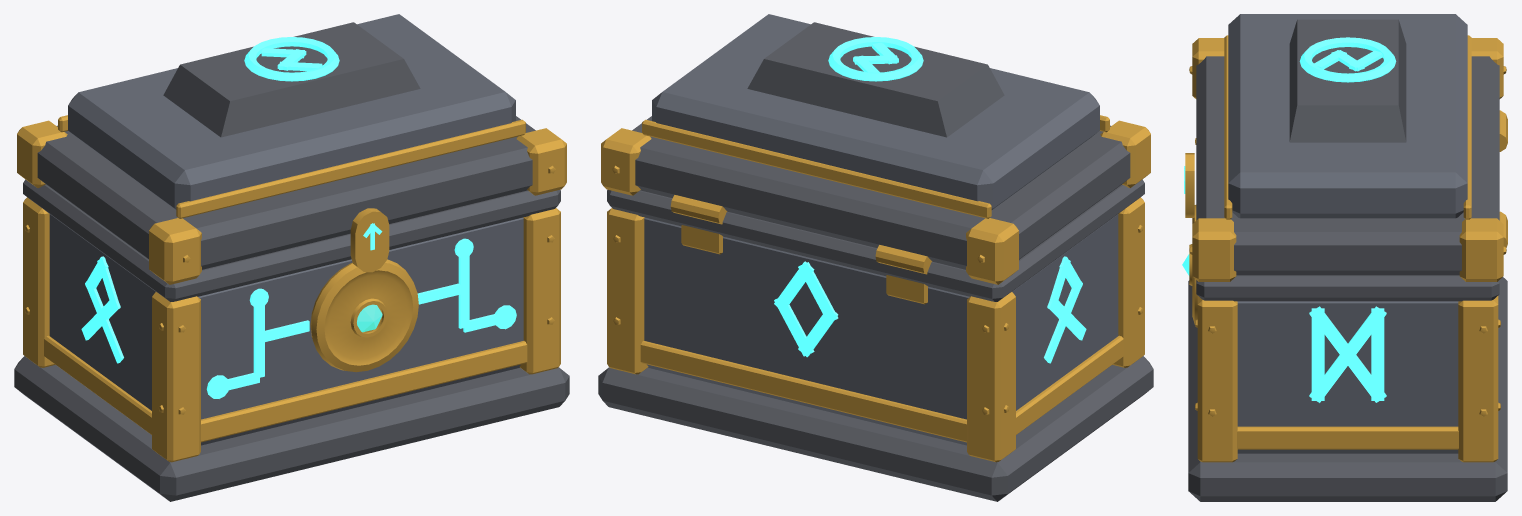
Rendered from item_vault.glb.
3 views of the same model, side by side, from view 1: azimuth 30°, elevation 25°; view 2: azimuth 150°, elevation 25°; view 3: azimuth 270°, elevation 25° (orthographic).
Visible parts, largest first — view 1: Vault, Lid; view 2: Vault, Lid; view 3: Lid, Vault.
Part boxes in pixels (bbox=[...]): Vault: bbox=[14, 179, 569, 501]; Lid: bbox=[17, 14, 566, 284]; Vault: bbox=[598, 179, 1153, 501]; Lid: bbox=[601, 14, 1150, 284]; Lid: bbox=[1184, 14, 1506, 281]; Vault: bbox=[1182, 110, 1507, 501].
Size of the model in its own units: 1.2 by 0.9682 by 0.817.
